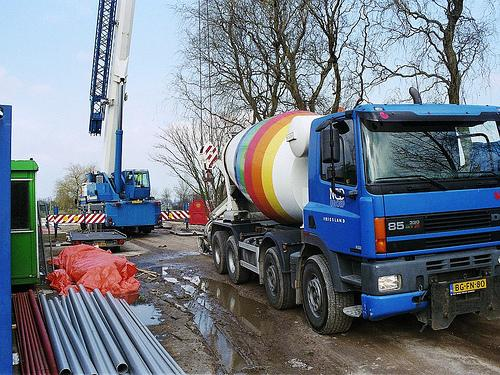truck: (197, 86, 500, 336)
